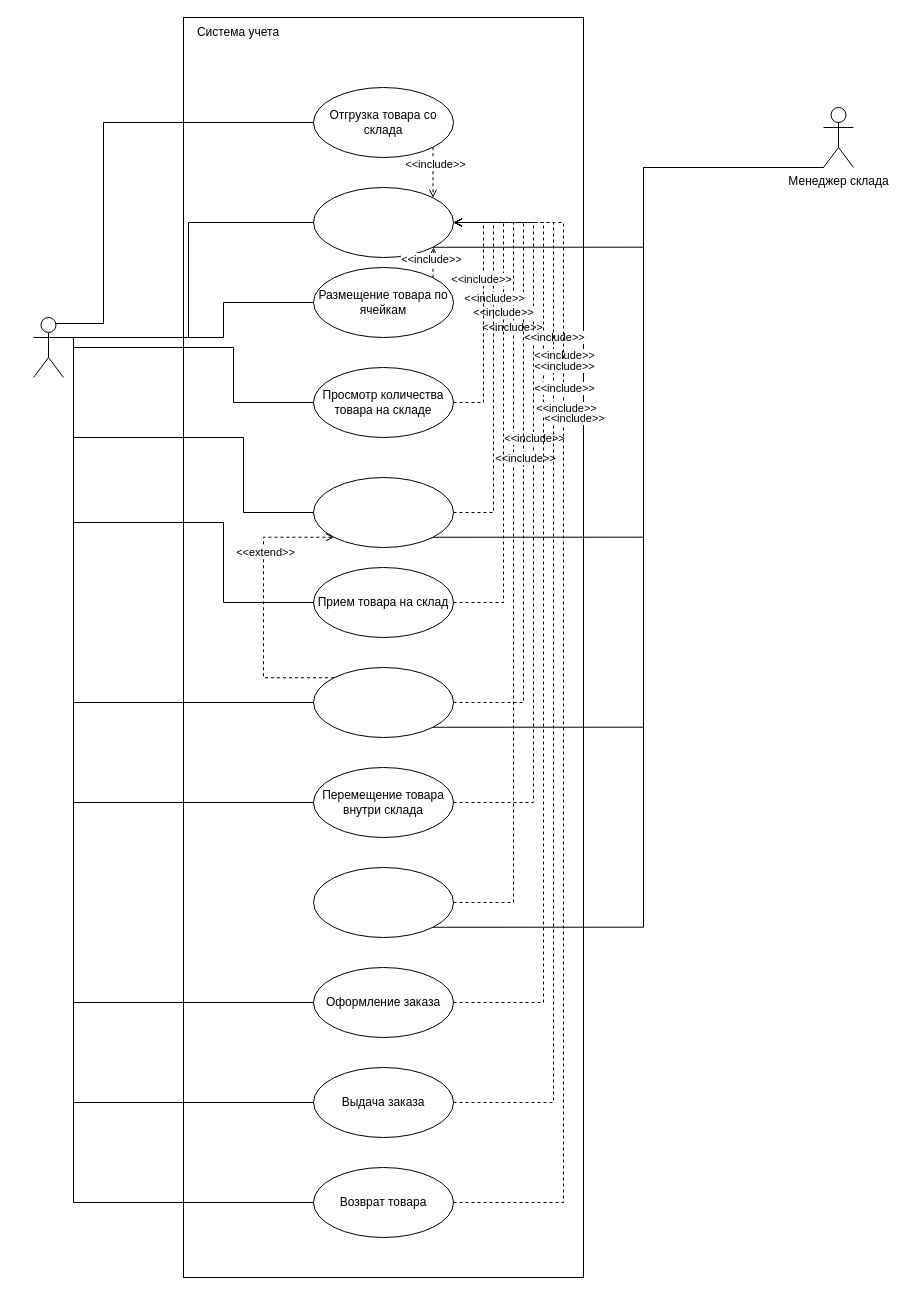
This 906x1295 diagram has some shape labels left out. Each missing label, with the centre of its shape:
Авторизация пользователя: pixel 383 222
Блокировка товара: pixel 383 702
Инвентаризация склада: pixel 383 512
Кладовщик: pixel 48 347
Формирование отчета по движению товаров: pixel 383 902
